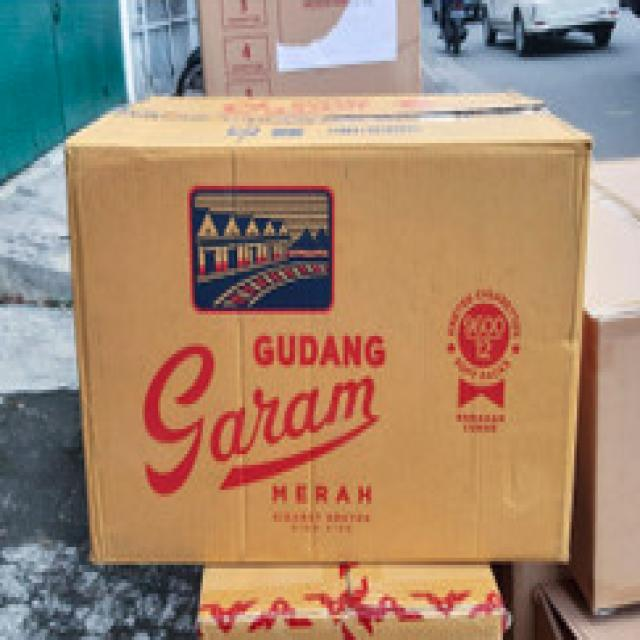Kardus: (63, 86, 593, 568), (192, 558, 511, 636), (477, 0, 619, 54)
